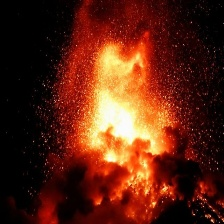fire: (87, 40, 159, 170)
smoke: (38, 153, 205, 222)
